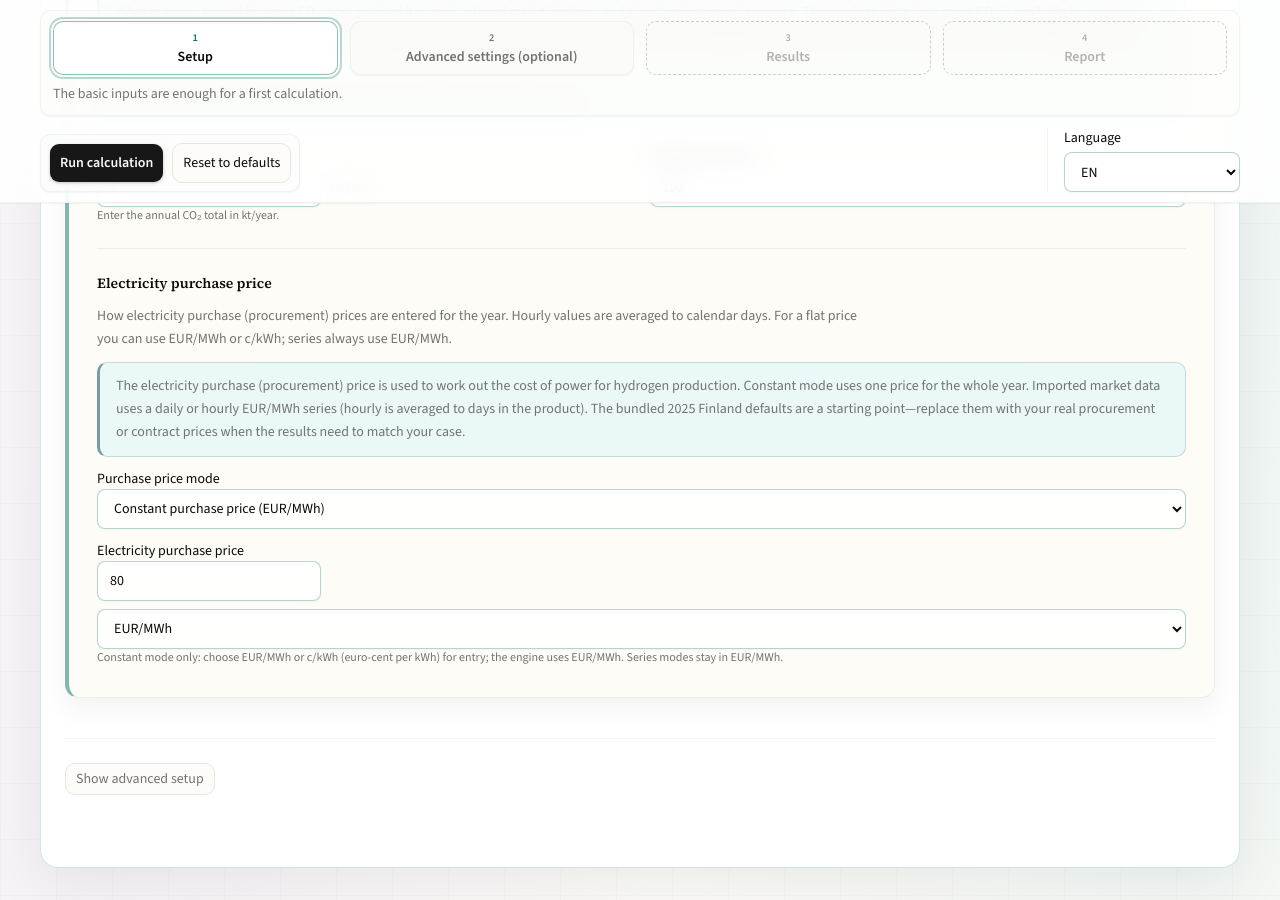
WP17 – advanced assumptions transparency UX › switches a row to custom mode and keeps SEC editing to one visible field
(page scrolled)
expect the button "Run calculation" is shown: met, box x1=49 y1=143 x2=164 y2=183
Click the button with test id "toggle-advanced-setup" at (140, 779), box x1=65 y1=763 x2=215 y2=795
(page scrolled)
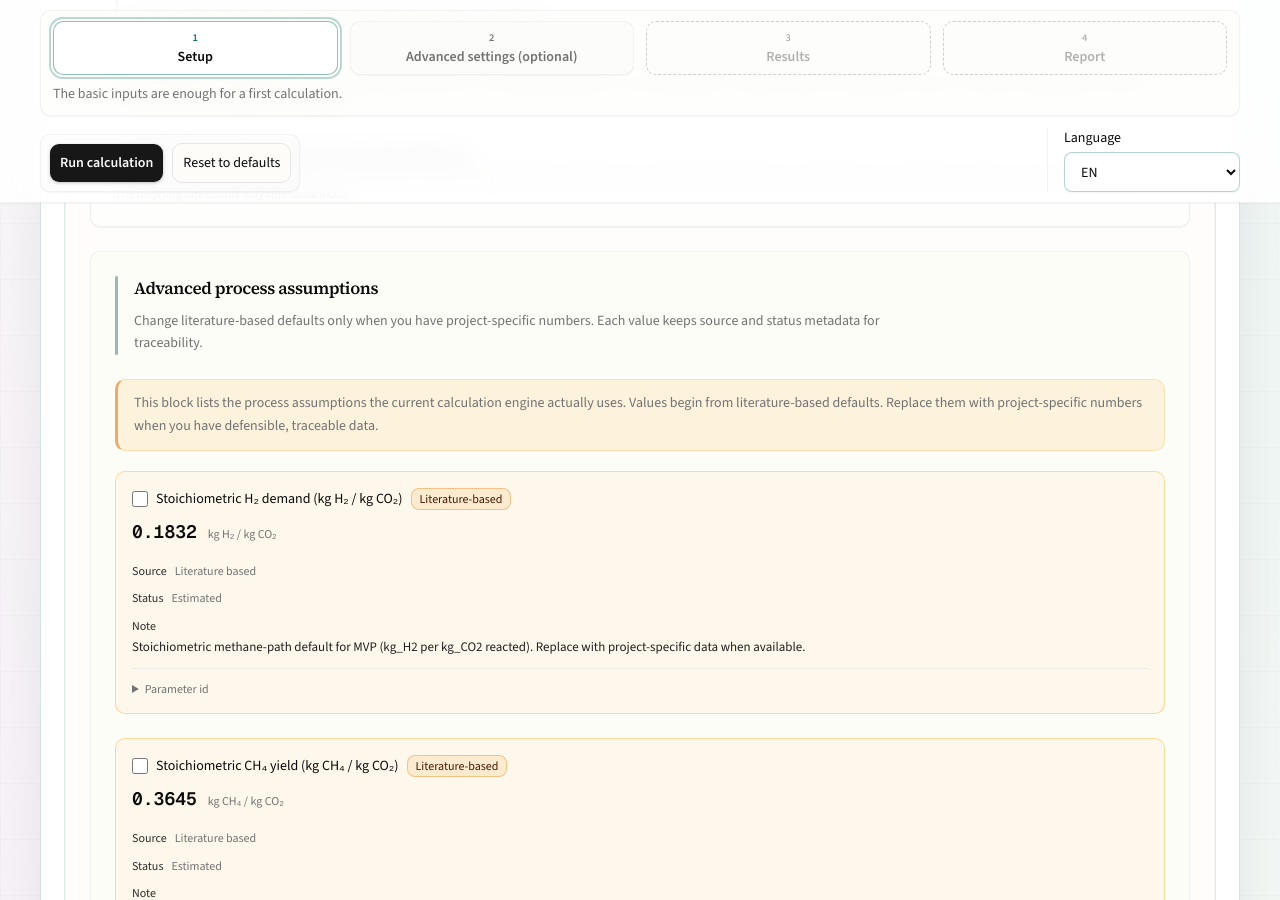
Click the checkbox labelled "Stoichiometric H₂ demand (kg H₂ / kg CO₂)" at (140, 499), box x1=132 y1=491 x2=148 y2=507
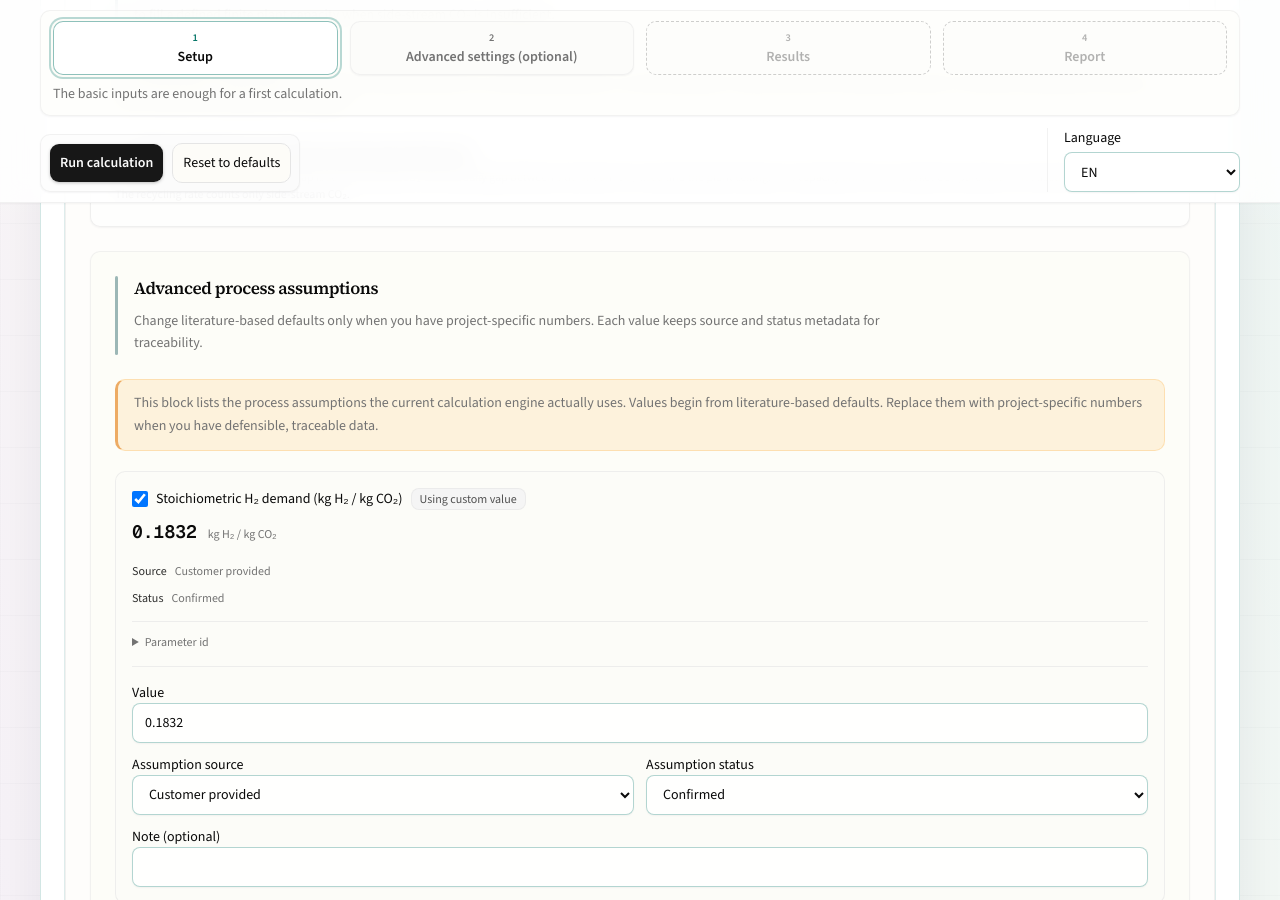
expect the text "Using custom value" is shown: met, box x1=410 y1=488 x2=526 y2=510
expect the field showing "0.1832" is shown: met, box x1=132 y1=703 x2=1148 y2=743
expect the text "Customer provided" is shown: met, box x1=175 y1=562 x2=271 y2=581
